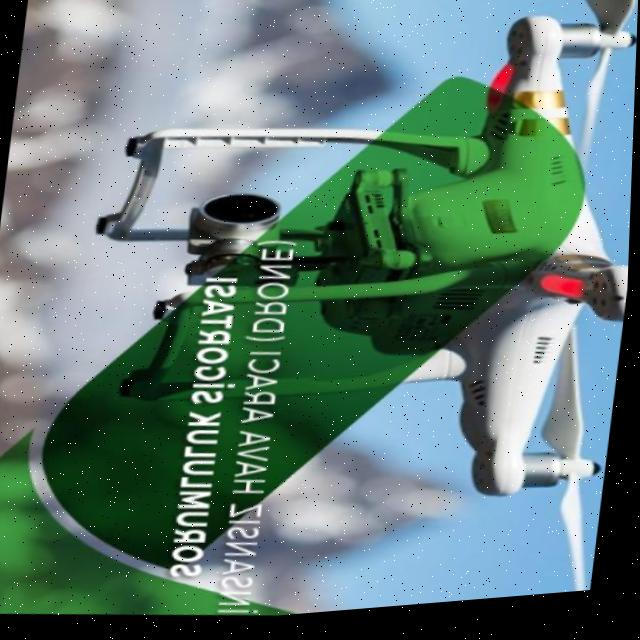drones: (39, 0, 640, 636)
